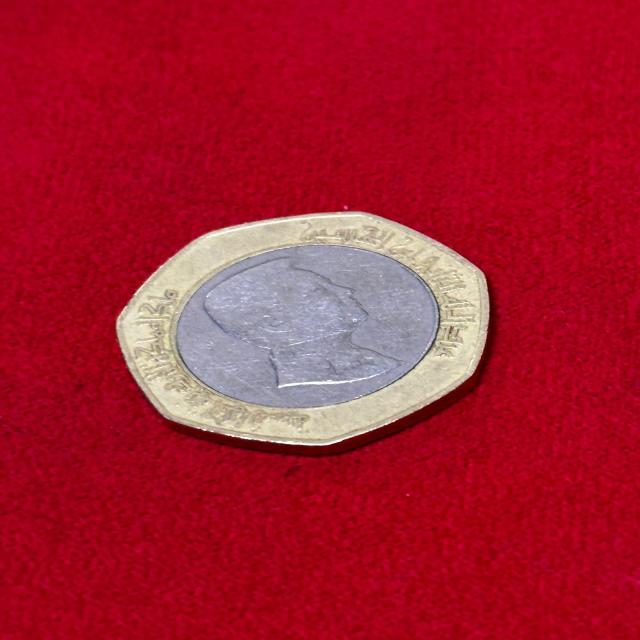50-coins: (113, 208, 495, 452)
